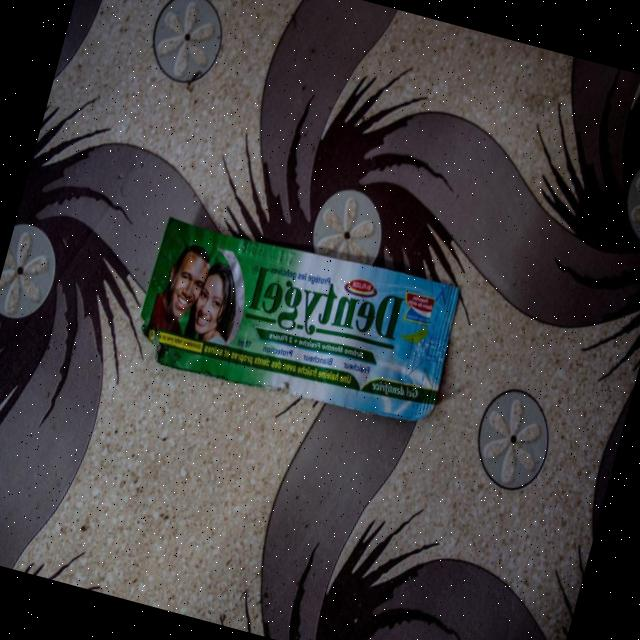Toothpaste: (118, 181, 476, 445)
